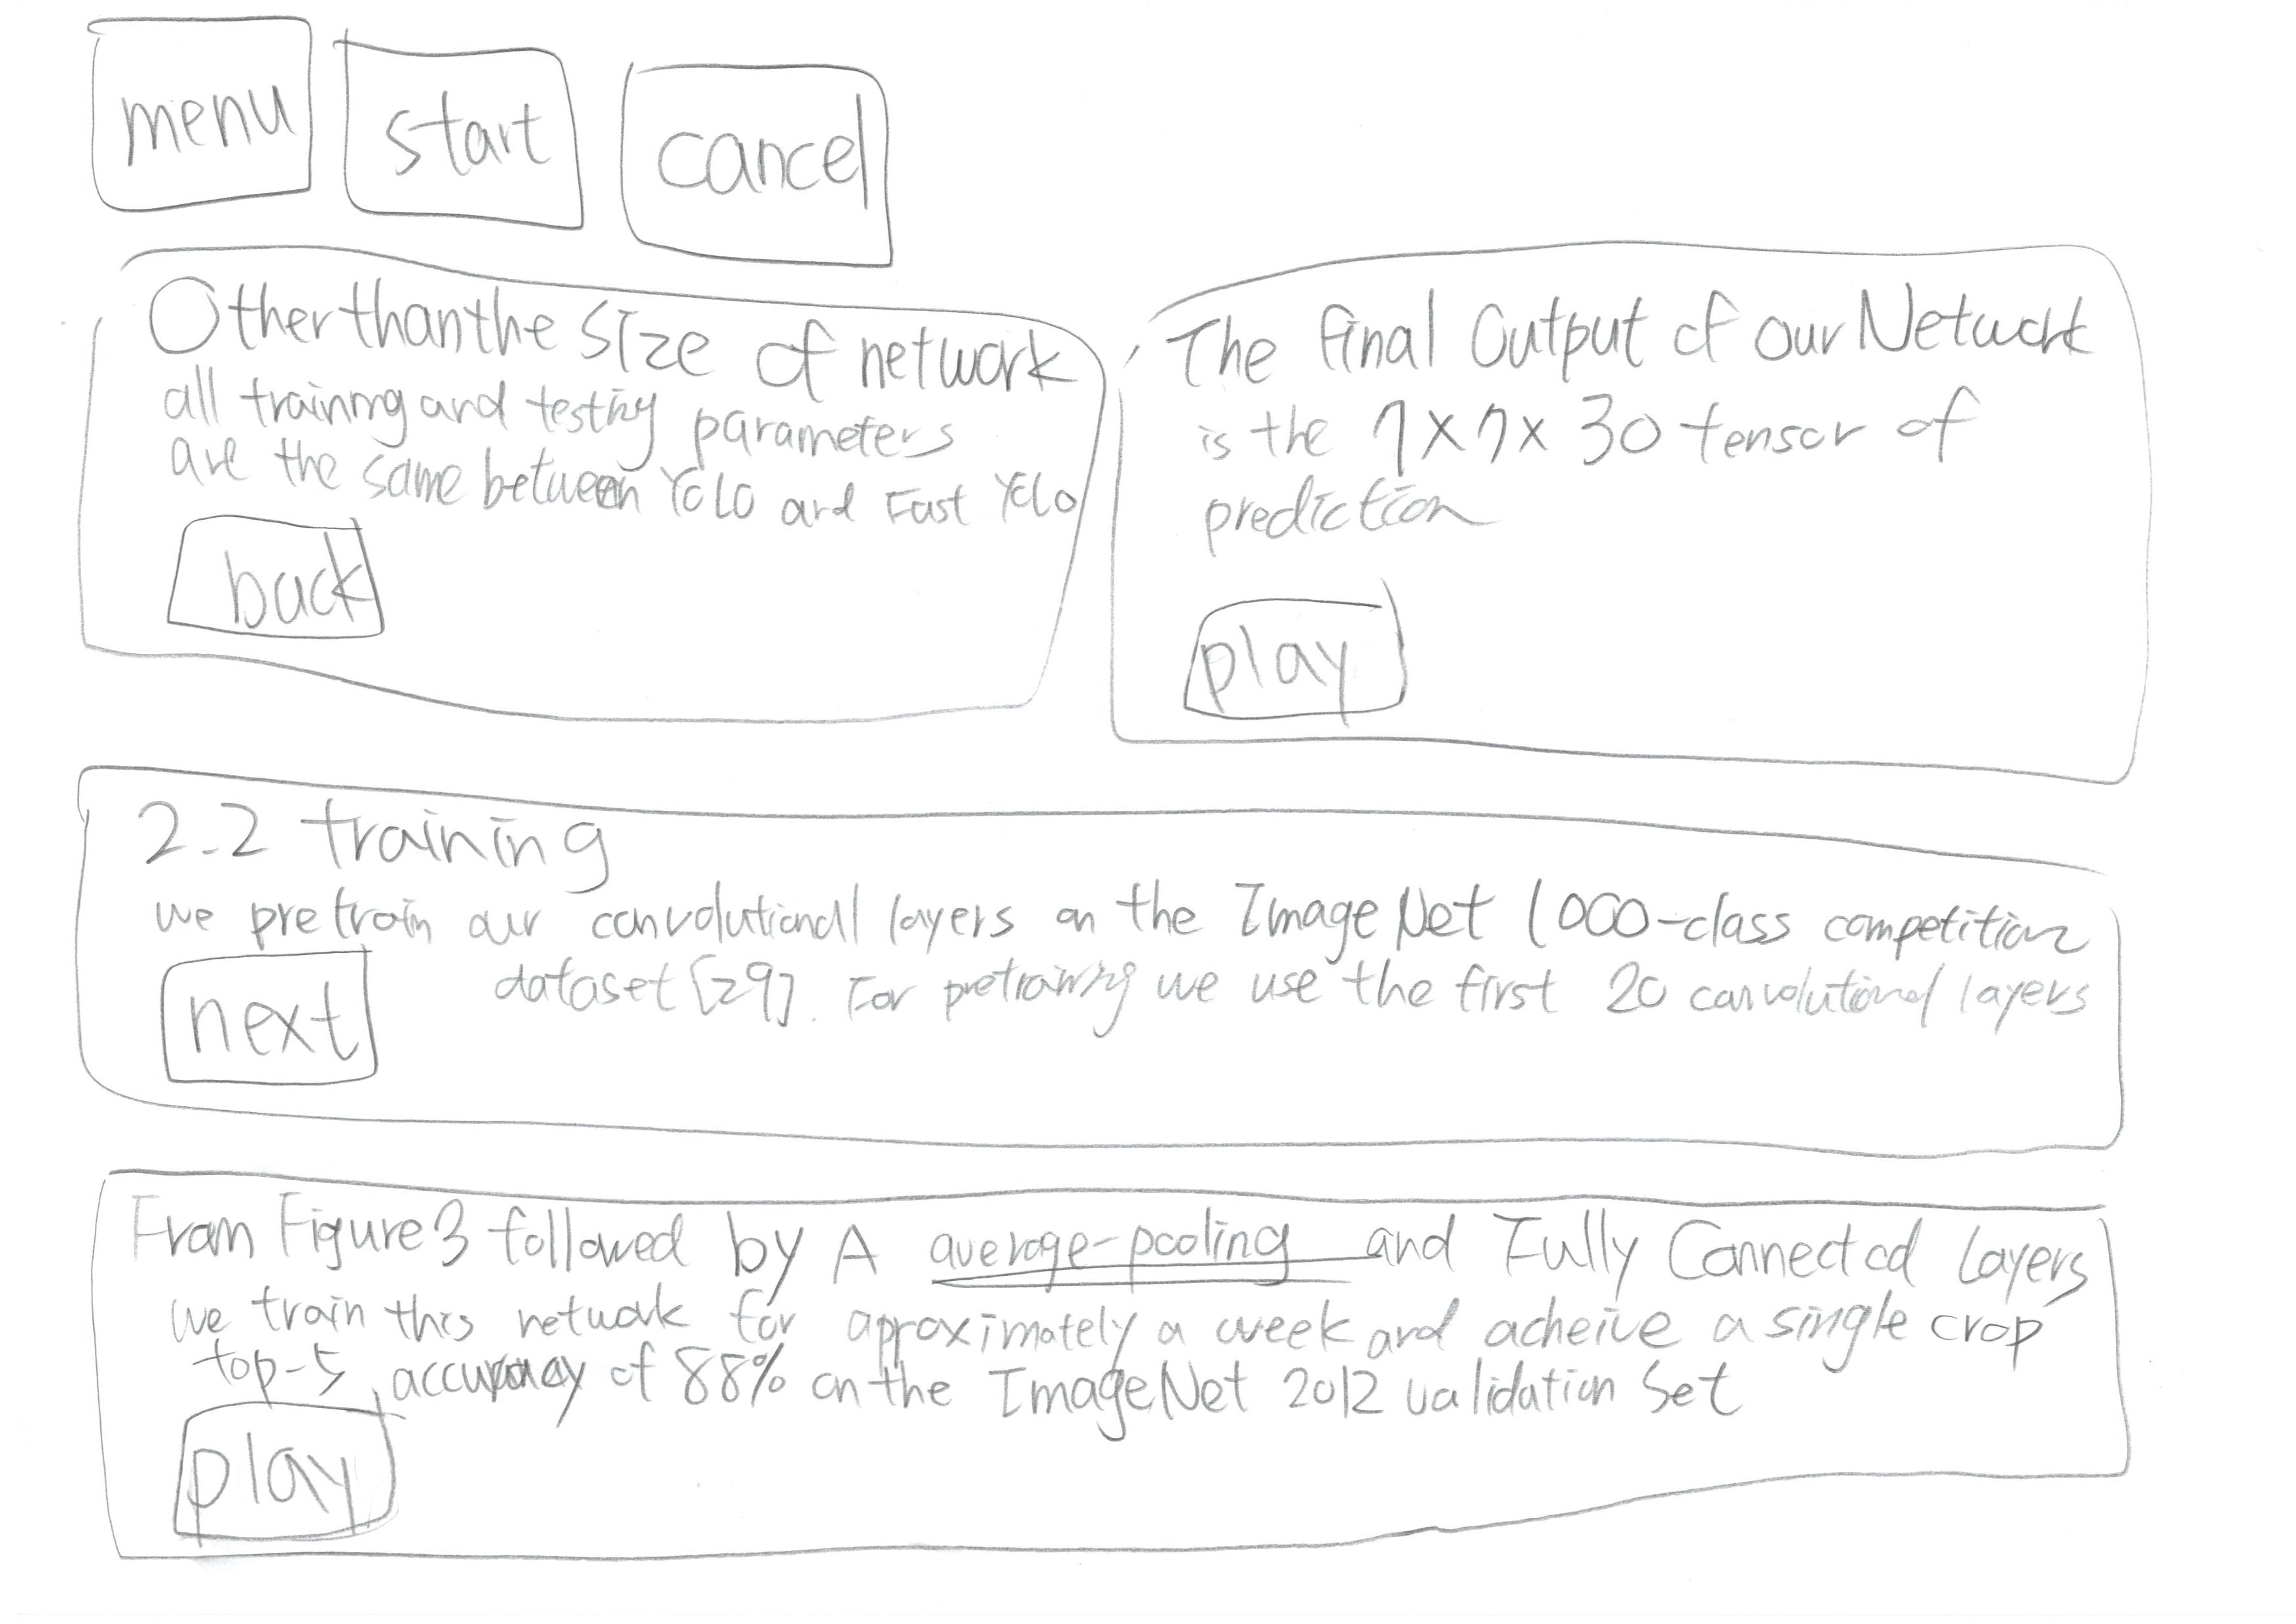back: (127, 499, 420, 657)
cancel: (596, 47, 955, 290)
double: (1106, 200, 2238, 805), (35, 220, 1122, 772)
menu: (46, 0, 329, 227)
next: (125, 937, 424, 1098)
play: (1150, 564, 1442, 742), (128, 1392, 431, 1552)
row: (4, 202, 2296, 852), (0, 1144, 2287, 1598), (4, 758, 2282, 1179), (5, 4, 2296, 272)
single: (26, 750, 2261, 1183), (26, 1142, 2277, 1562)
small-title: (149, 1186, 1389, 1285), (1162, 286, 2117, 383), (146, 286, 1067, 385), (105, 786, 649, 884)
start: (316, 14, 601, 262)
text: (483, 912, 2085, 1062), (155, 1276, 2076, 1387), (1139, 383, 2052, 554), (148, 371, 1083, 520), (156, 877, 2069, 949), (1398, 1207, 2099, 1318)
